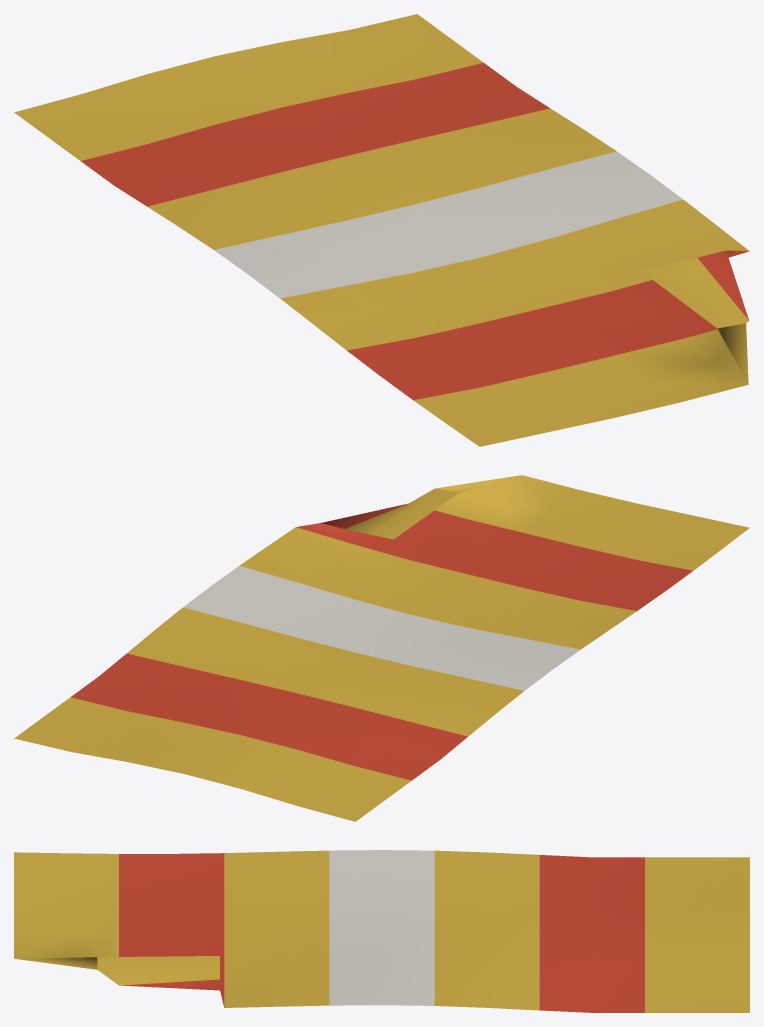
The model's file is beach-towel-b.glb.
3 renders of one model, top to bottom at view 1: azimuth 30°, elevation 25°; view 2: azimuth 150°, elevation 25°; view 3: azimuth 270°, elevation 25°, orthographic. The views are drawn at different scales.
Parts seen in each view (by area): view 1: beach-towel-b; view 2: beach-towel-b; view 3: beach-towel-b.
Part boxes in pixels (x1=…): beach-towel-b: x1=14, y1=14, x2=749, y2=446; beach-towel-b: x1=14, y1=475, x2=749, y2=821; beach-towel-b: x1=14, y1=850, x2=749, y2=1012.
Bounding box in the file's own units: 0.9 × 0.0364 × 1.8.
